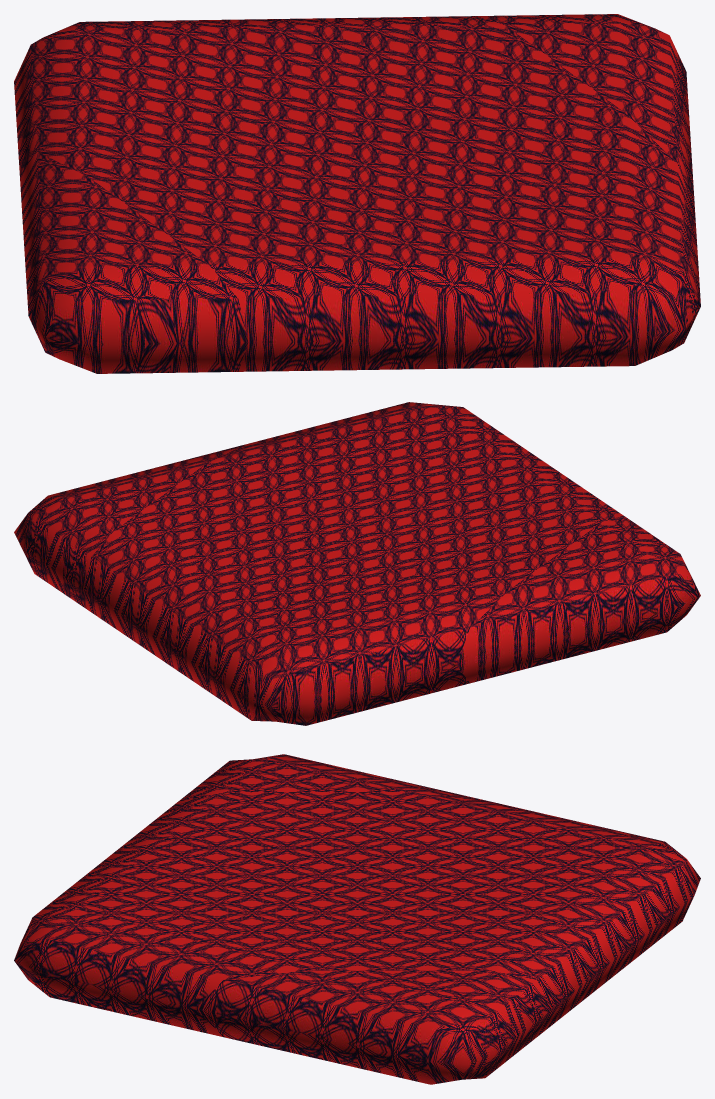
The model's file is Pillow bum.fbx.
3 views of the same model, one above another, from view 1: azimuth 30°, elevation 25°; view 2: azimuth 150°, elevation 25°; view 3: azimuth 270°, elevation 25° (orthographic). The views are drawn at different scales.
Visible parts, largest first — view 1: pasted__pCube762; view 2: pasted__pCube762; view 3: pasted__pCube762.
Boxes of the visible parts, x1=… form: pasted__pCube762: x1=14, y1=14, x2=700, y2=373; pasted__pCube762: x1=14, y1=402, x2=700, y2=725; pasted__pCube762: x1=14, y1=754, x2=700, y2=1084.
Size of the model in its own units: 204 by 24.91 by 204.
Materials: 1 (1 with a texture image).
